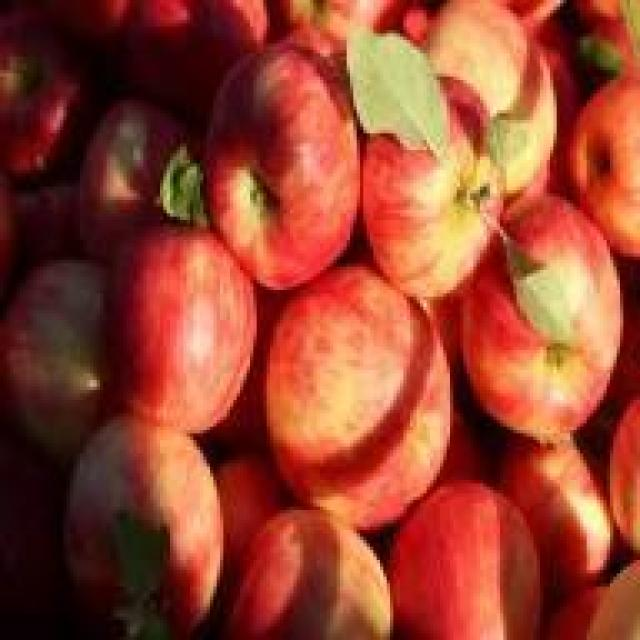apple: (276, 280, 456, 500), (54, 413, 224, 637), (467, 196, 620, 436), (207, 46, 360, 276), (357, 80, 513, 300), (97, 217, 243, 430), (10, 230, 123, 453), (423, 7, 560, 180), (397, 483, 540, 630), (247, 493, 380, 637)
